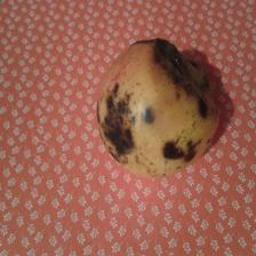Mango Rotten: (88, 27, 235, 178)
